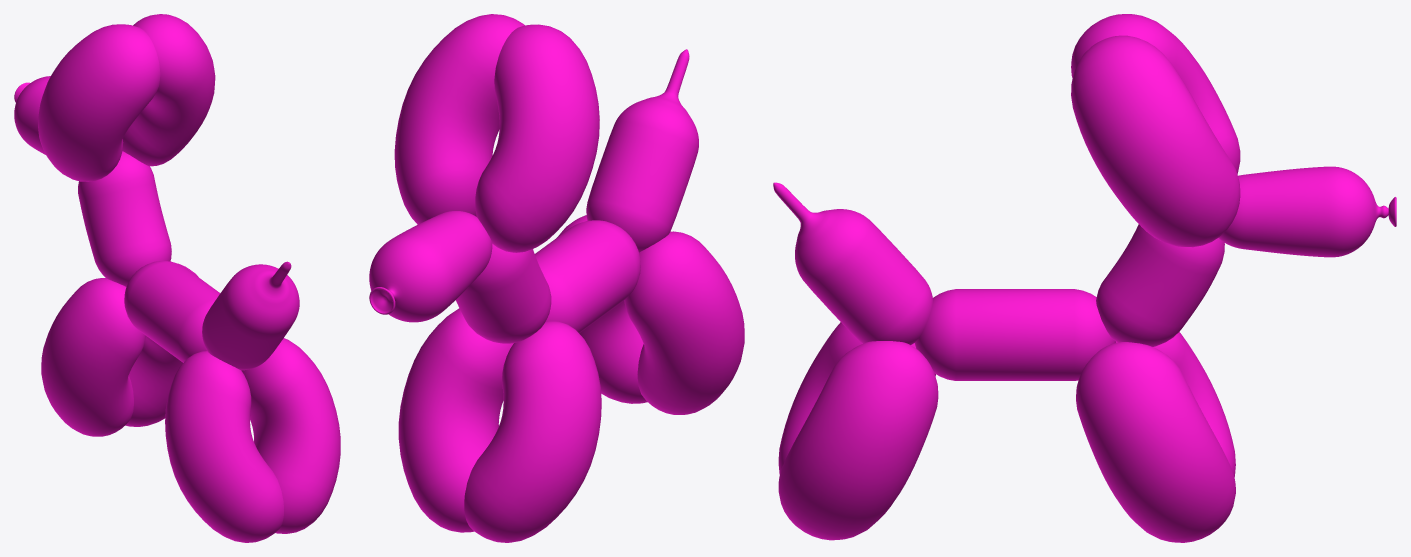
The model's file is balloon.glb.
3 renders of one model, left to right at view 1: azimuth 30°, elevation 25°; view 2: azimuth 150°, elevation 25°; view 3: azimuth 270°, elevation 25°, orthographic. The views are drawn at different scales.
Parts seen in each view (by area): view 1: Object_2, Object_3; view 2: Object_2, Object_3; view 3: Object_2, Object_3.
Part boxes in pixels (<box>): Object_2: <box>38,14,340,542</box>; Object_3: <box>14,76,299,370</box>; Object_2: <box>394,14,744,542</box>; Object_3: <box>369,49,698,322</box>; Object_2: <box>778,14,1240,542</box>; Object_3: <box>773,166,1396,344</box>.
Bounding box in the file's own units: 0.1532 × 0.3919 × 0.4448.
